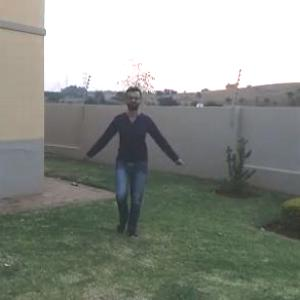land: (89, 93, 176, 216)
